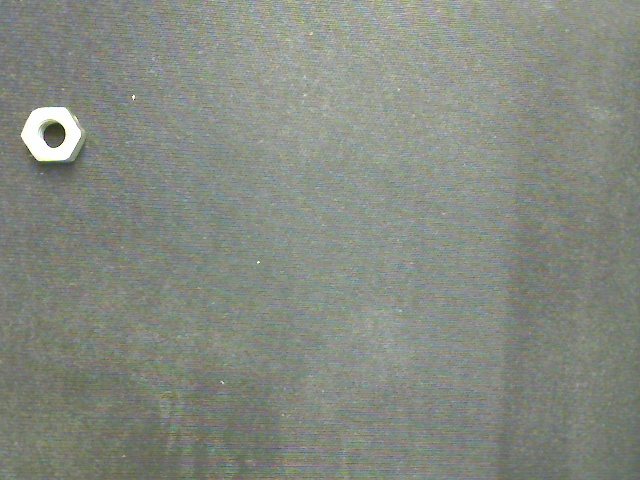Nut: (19, 105, 86, 162)
